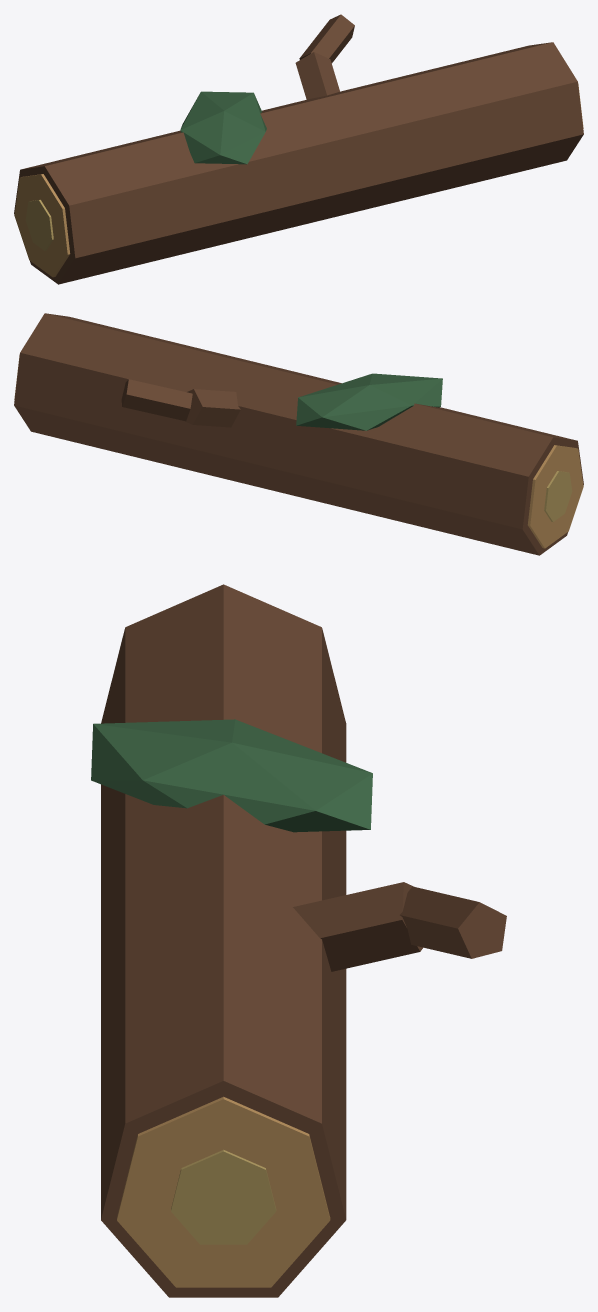
Rendered from FallenLog_A.fbx.
The picture shows the model from 3 angles, top to bottom: view 1: azimuth 30°, elevation 25°; view 2: azimuth 150°, elevation 25°; view 3: azimuth 270°, elevation 25°; orthographic projection. The views are drawn at different scales.
Parts seen in each view (by area): view 1: FallenLog_A; view 2: FallenLog_A; view 3: FallenLog_A.
Boxes of the visible parts, x1,y1,x2,y2 form: FallenLog_A: (14, 14, 583, 284); FallenLog_A: (14, 313, 583, 555); FallenLog_A: (91, 584, 506, 1297).
Bounding box in the file's own units: 1.74 × 0.4 × 0.6009.
Materials: 1 (1 with a texture image).
